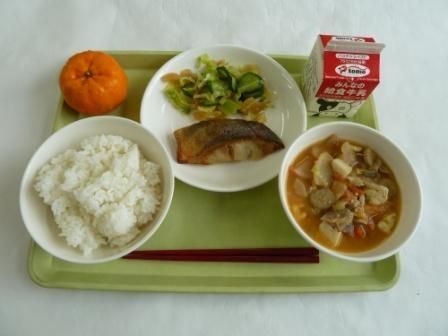Citrus: (55, 46, 130, 115)
Fish: (170, 114, 288, 172)
Milk: (299, 28, 389, 121)
Rice: (22, 124, 173, 259)
Salad: (162, 53, 287, 120)
Soups: (285, 128, 417, 262)
